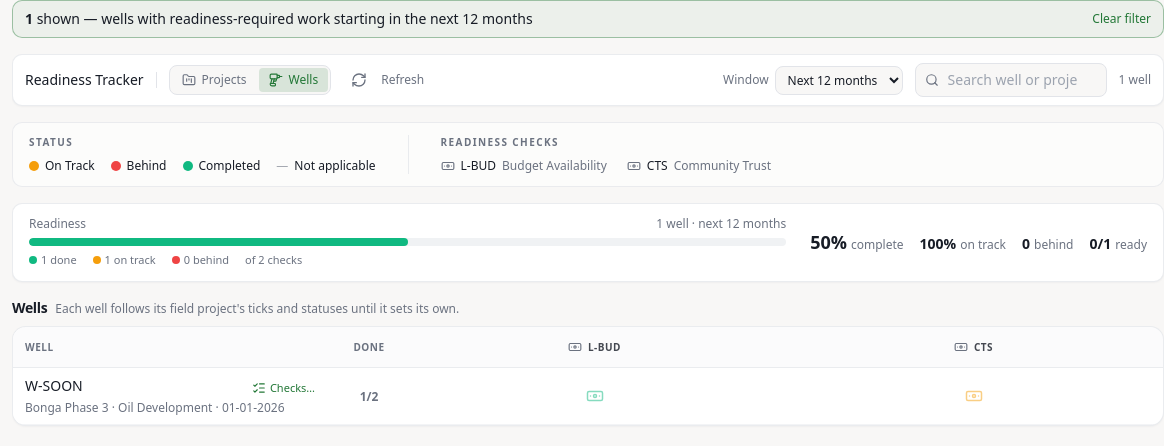
Test: TeamReadinessGrid › lists wells with work left in the window and sums exactly those (spec §3.7)
Expected: the text "W-SOON" is shown, [25,376,83,396]
Expected: the text "W-FAR" is not shown
Select "All wells" in the dropdown named "Readiness time window". click: [839, 80]
box: [775,66,903,94]
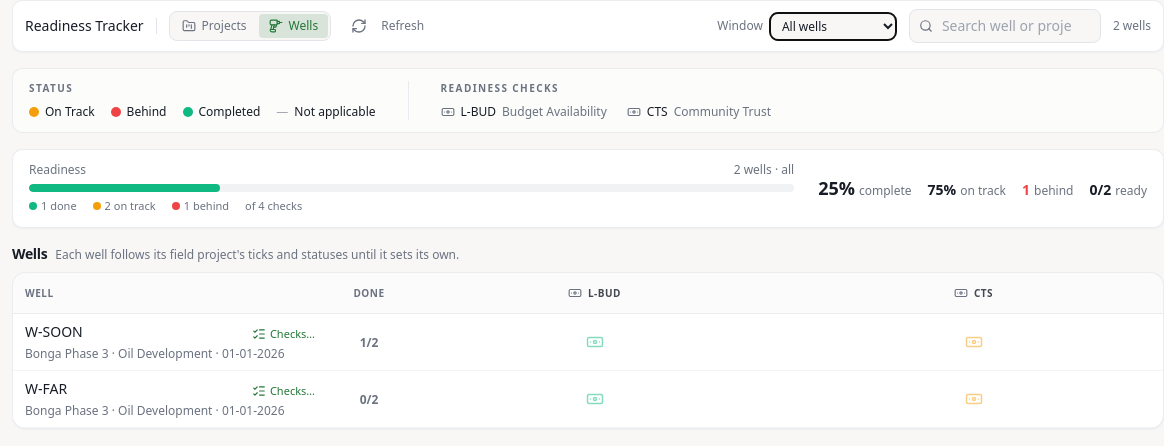
Expected: the text "W-FAR" is shown, [25,378,67,398]
Expected: the element with test id "readiness-summary" shows "2 wells · all", [734,161,794,178]
